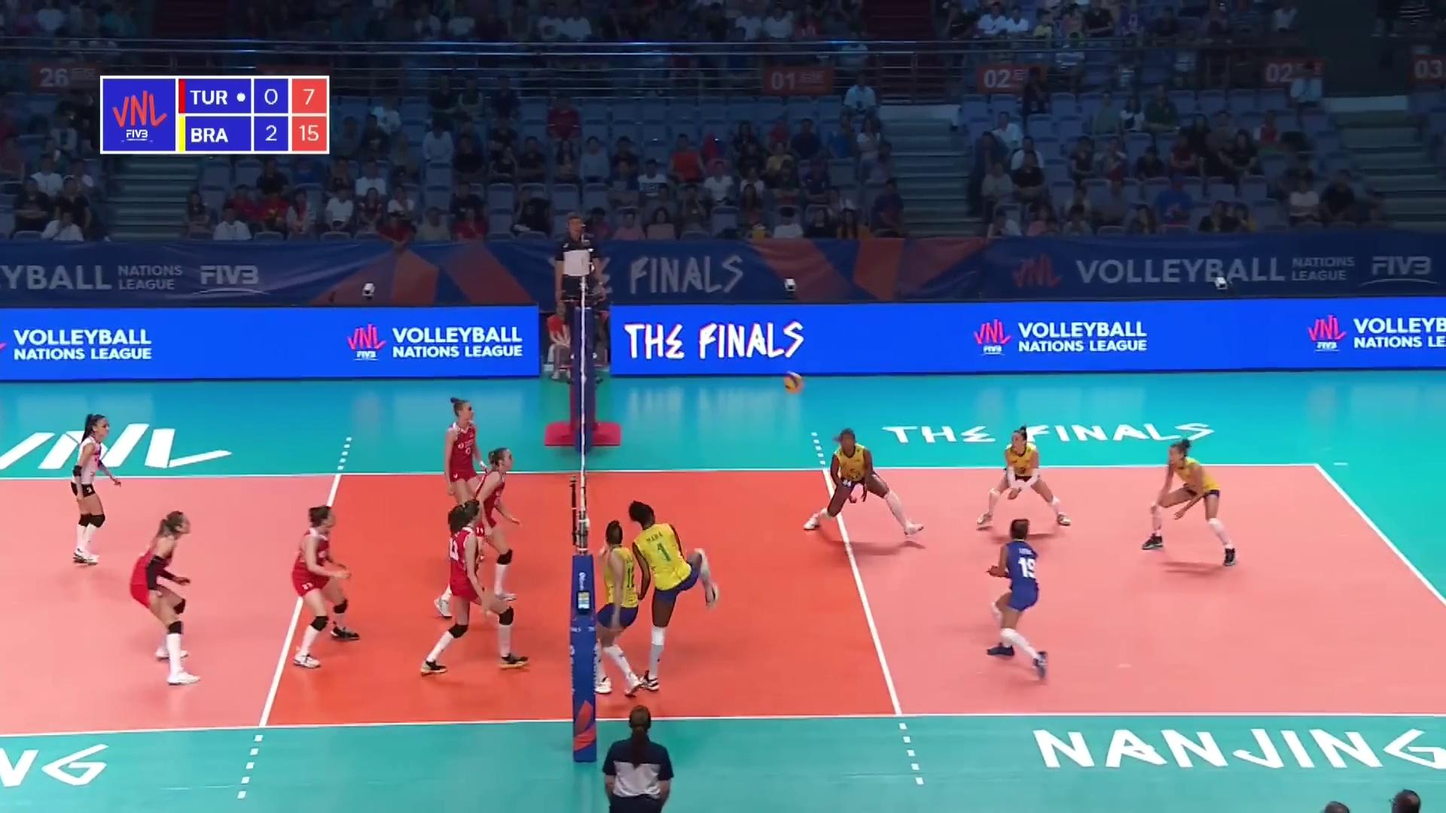player: (626, 499, 722, 695), (421, 502, 528, 675), (435, 447, 521, 619), (804, 428, 924, 539), (131, 510, 202, 687), (290, 506, 367, 669), (1143, 443, 1234, 563), (987, 519, 1050, 677), (977, 424, 1071, 528), (590, 522, 644, 698), (64, 415, 121, 568), (443, 395, 491, 565)
refree: (600, 703, 680, 811), (553, 212, 603, 345)
